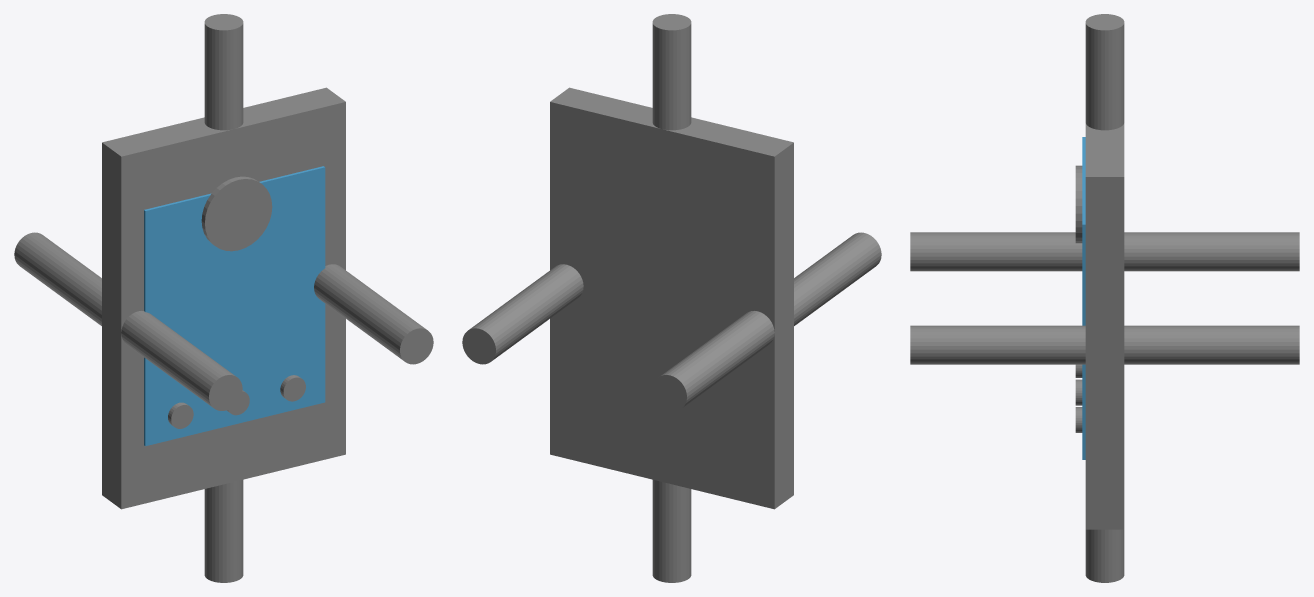
File: crypto_wallet.glb
3 renders of one model, left to right at view 1: azimuth 30°, elevation 25°; view 2: azimuth 150°, elevation 25°; view 3: azimuth 270°, elevation 25°, orthographic.
Parts seen in each view (by area): view 1: world; view 2: world; view 3: world.
Part boxes in pixels (x1,y1,x2,y2): world: [14, 14, 433, 582]; world: [462, 14, 881, 582]; world: [910, 14, 1299, 582].
Bounding box in the file's own units: 2 × 4.7 × 3.
